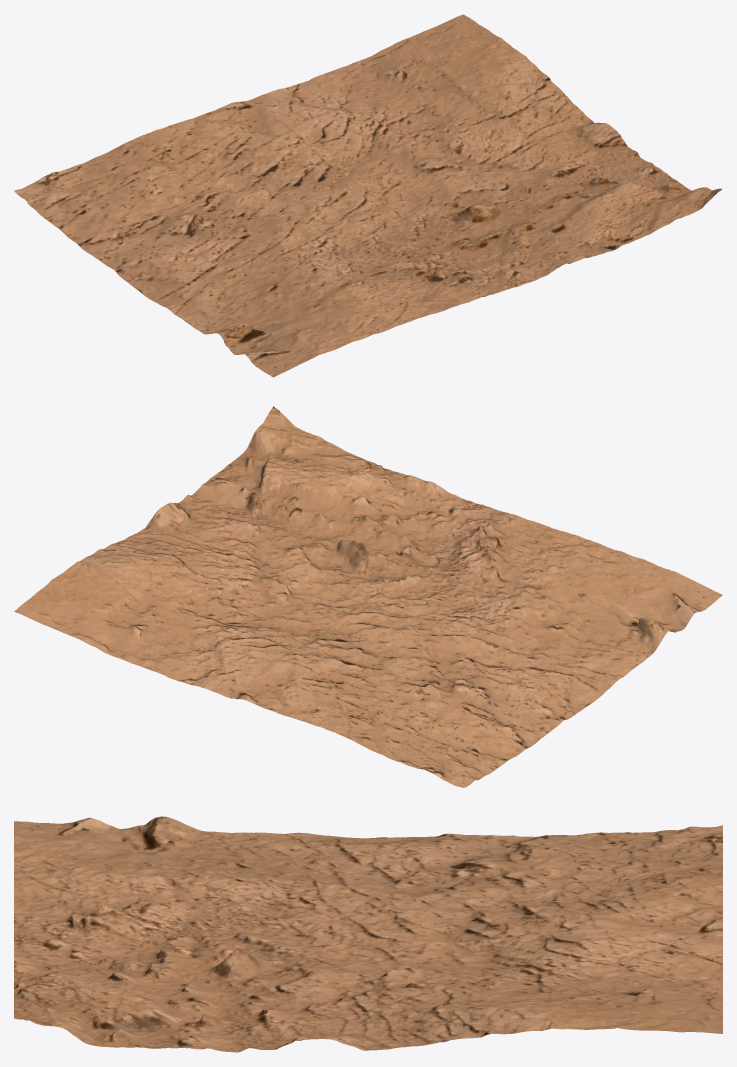
The picture shows the model from 3 angles, top to bottom: view 1: azimuth 30°, elevation 25°; view 2: azimuth 150°, elevation 25°; view 3: azimuth 270°, elevation 25°; orthographic projection. The views are drawn at different scales.
Bounding box in the file's own units: 2.09 × 0.4079 × 2.09.
Materials: 3 (3 with a texture image).
